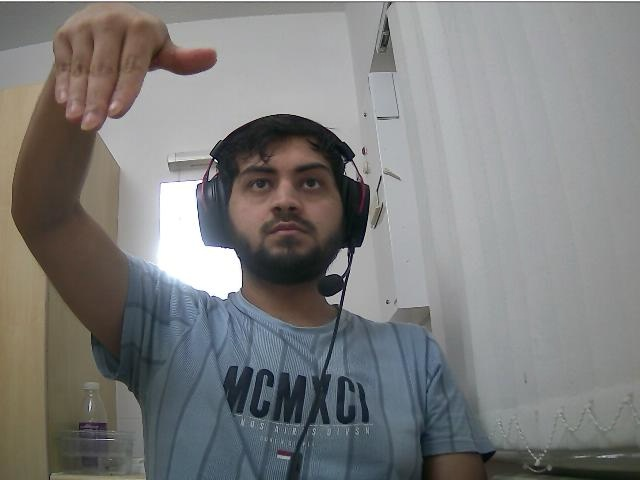down: (53, 1, 153, 132)
